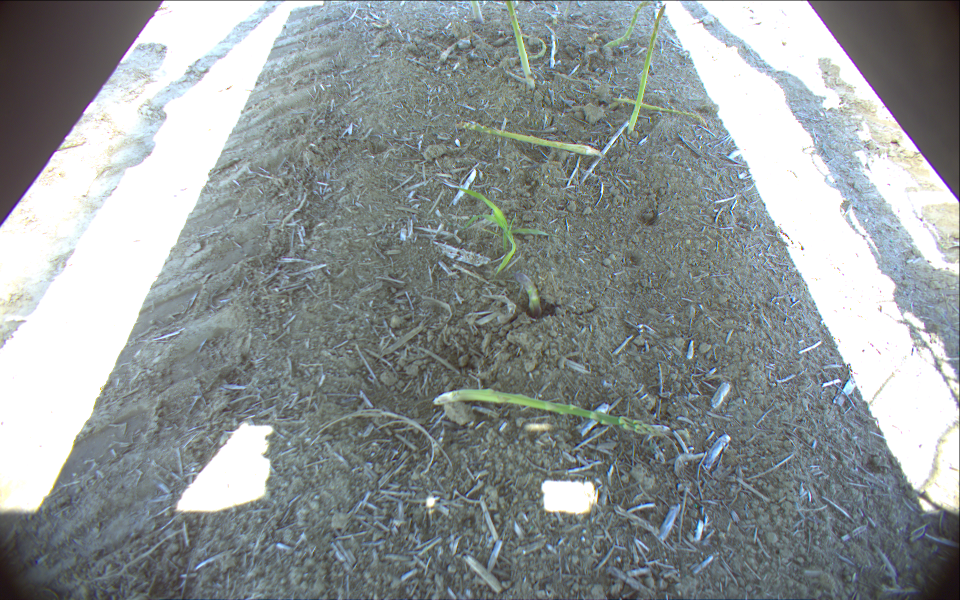aspa: (621, 4, 669, 135), (502, 1, 540, 93), (599, 1, 652, 57), (510, 271, 545, 319), (466, 1, 485, 25)
